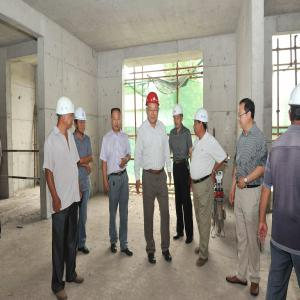none: (238, 97, 256, 131), (111, 107, 123, 132)
red: (146, 92, 161, 127)
white: (56, 95, 76, 132), (288, 83, 300, 125), (193, 109, 210, 138), (74, 108, 88, 136), (173, 105, 185, 129)
